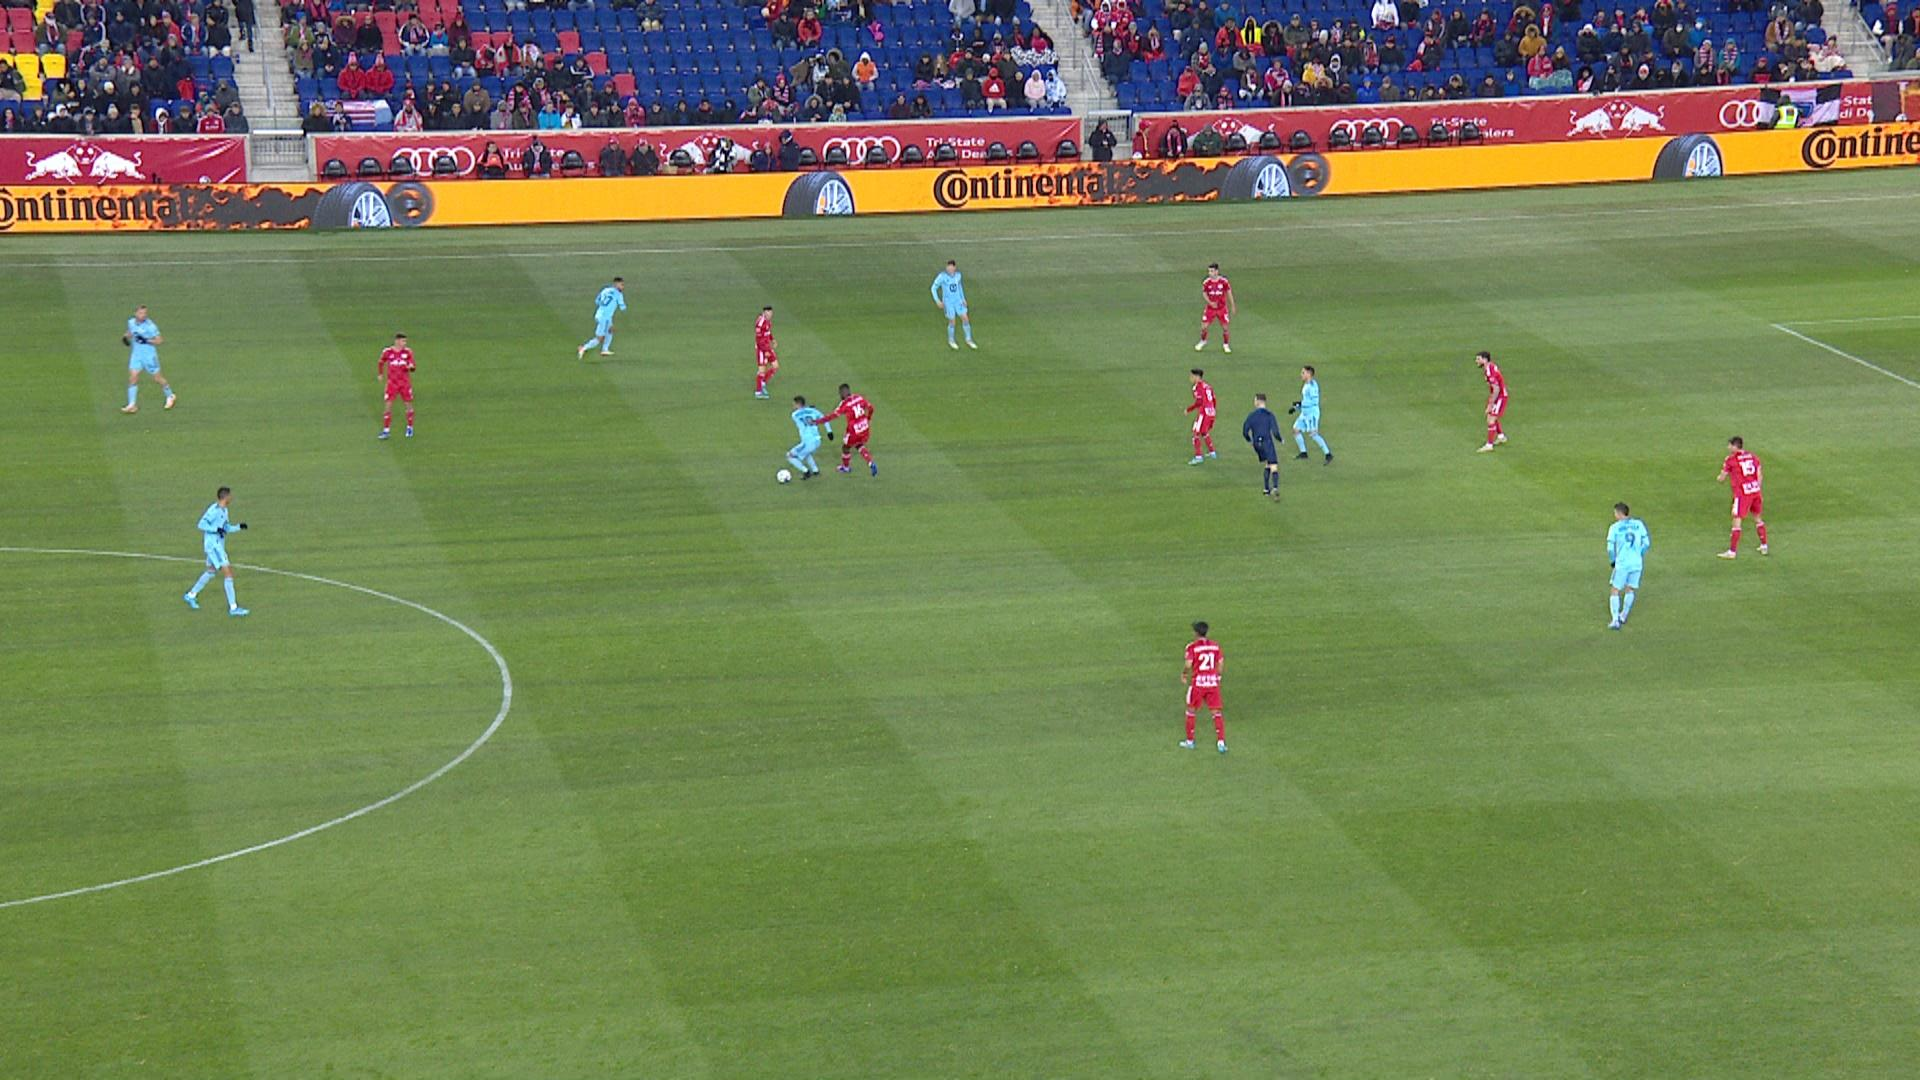football: (775, 468, 793, 484)
